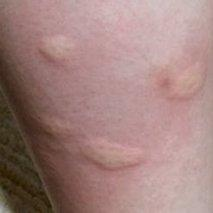Mosquito: (78, 140, 145, 173), (24, 110, 76, 142), (164, 61, 203, 98), (39, 34, 72, 60)
